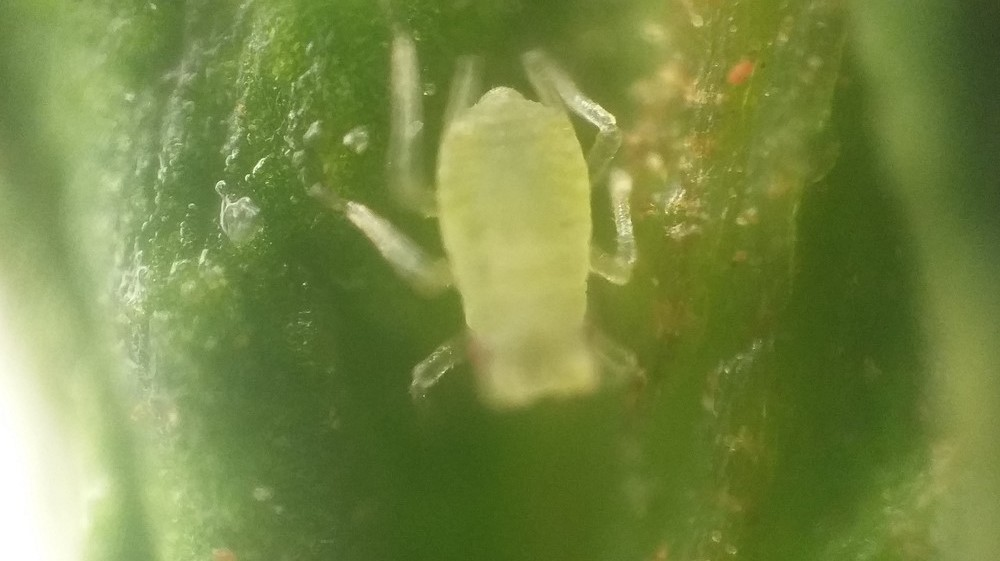Pulgon: (342, 39, 694, 443)
